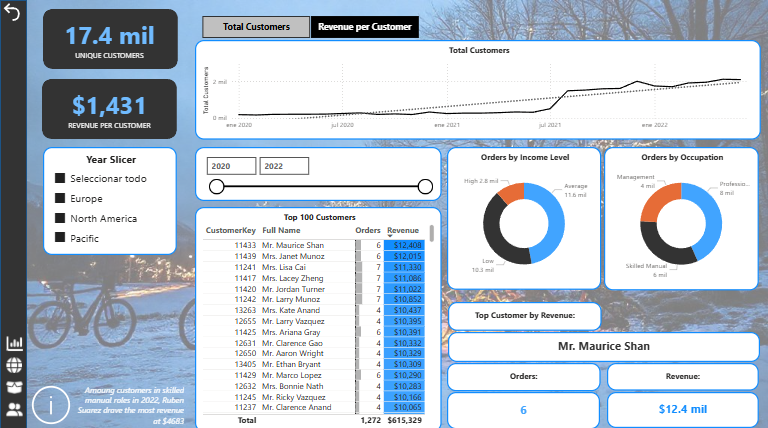

This screenshot's page, from the dashboard's own definition file:
{"tool":"powerbi","page":{"name":"Customer Detail","canvas":[1280,720],"ordinal":3},"visuals":[{"type":"card","fields":{"Values":["Measure Table.Total Customers"]},"box":[70,15.7,224.8,99.9],"z":0,"group":"g2"},{"type":"shape","box":[70,131.8,224.8,99.9],"z":0,"group":"g1"},{"type":"actionButton","box":[7.1,555.7,35.7,35.7],"z":0,"group":"g4"},{"type":"textbox","box":[745.7,605.7,255.7,47.1],"z":0},{"type":"lineChart","fields":{"Y":["Measure Table.Total Customers"],"Category":["Calendar Lookup.Año Jerarquía.Año","Calendar Lookup.Año Jerarquía.Inicio del mes","Calendar Lookup.Año Jerarquía.Inicio de la semana","Calendar Lookup.Año Jerarquía.Date"]},"box":[324.7,66.1,943.3,166],"z":500},{"type":"shape","box":[71.1,15.7,224.8,99.9],"z":1000,"group":"g1"},{"type":"card","fields":{"Values":["Measure Table.Average Revenue per Customer"]},"box":[70,131.8,224.8,99.9],"z":1000,"group":"g2"},{"type":"actionButton","box":[7.1,592.8,35.7,34.3],"z":1000,"group":"g4"},{"type":"textbox","box":[1011.4,605.7,252.9,45.7],"z":1000},{"type":"shape","box":[0,0,45,720],"z":2000},{"type":"group","id":"g1","title":"KPIs Backgrounds","box":[70,15.7,225.9,216],"z":2000,"group":"g3"},{"type":"actionButton","box":[7,629,35,35],"z":2000,"group":"g4"},{"type":"group","id":"g2","title":"KPIs Values","box":[70,15.7,224.8,216],"z":2500,"group":"g3"},{"type":"actionButton","box":[7,665.7,35,35],"z":3000,"group":"g4"},{"type":"group","id":"g3","title":"KPIs","box":[70,15.7,227.1,215.7],"z":4000},{"type":"donutChart","title":"Orders by Income Level","fields":{"Category":["Customer Lookup.Income Level"],"Y":["Measure Table.Total Orders"]},"box":[745,245,256.7,238.3],"z":5000},{"type":"donutChart","title":"Orders by Occupation","fields":{"Category":["Customer Lookup.Occupation"],"Y":["Measure Table.Total Orders"]},"box":[1006.2,245,257.5,238.8],"z":6000},{"type":"tableEx","title":"Top 100 Customers","fields":{"Values":["Customer Lookup.CustomerKey","Customer Lookup.Customer Full Name (CC)","Measure Table.Total Orders","Measure Table.Total Revenue"]},"box":[324.7,345.3,411.4,374.7],"z":7000},{"type":"textbox","box":[746.2,502.5,256.2,47.5],"z":8000},{"type":"card","fields":{"Values":["Customer Lookup.Full Name (Customer Detail)"]},"box":[746.2,552.5,520,50],"z":9000},{"type":"card","fields":{"Values":["Measure Table.Total Orders (Customer Detail)"]},"box":[745,653.3,255,61.7],"z":10000},{"type":"card","fields":{"Values":["Measure Table.Total Revenue (Customer Detail)"]},"box":[1011.7,653.3,253.3,60],"z":11000},{"type":"slicer","title":"Year Slicer","fields":{"Values":["Territory Lookup.Continent"]},"box":[71.7,245,223.3,180],"z":12000},{"type":"actionButton","box":[0,0,45.6,39.7],"z":13000},{"type":"slicer","fields":{"Values":["Calendar Lookup.Año Jerarquía.Año"]},"box":[324.7,245.4,411.4,89.6],"z":14000},{"type":"actionButton","box":[45.7,634.3,265.7,80],"z":15000},{"type":"group","id":"g4","title":"Navigation Buttons","box":[7,555.7,35.9,145],"z":16000},{"type":"slicer","fields":{"Values":["Customer Metric SElection.Customer Metric SElection"]},"box":[311.5,20.6,410,50],"z":17000}]}

Visuals, with their boxes on the page's 1280x720 design canvas (x1, y1, x2, y2). These are canvas units, not pixel positions in the 768x428 screenshot, which may show the page scaled, cropped or inside an application window:
card - Measure Table.Total Customers: 70,16,295,116
shape: 70,132,295,232
actionButton: 7,556,43,591
textbox: 746,606,1001,653
lineChart - Measure Table.Total Customers x Calendar Lookup.Año Jerarquía.Año: 325,66,1268,232
shape: 71,16,296,116
card - Measure Table.Average Revenue per Customer: 70,132,295,232
actionButton: 7,593,43,627
textbox: 1011,606,1264,651
shape: 0,0,45,720
"KPIs Backgrounds" group: 70,16,296,232
actionButton: 7,629,42,664
"KPIs Values" group: 70,16,295,232
actionButton: 7,666,42,701
"KPIs" group: 70,16,297,231
"Orders by Income Level" donutChart: 745,245,1002,483
"Orders by Occupation" donutChart: 1006,245,1264,484
"Top 100 Customers" tableEx: 325,345,736,720
textbox: 746,502,1002,550
card - Customer Lookup.Full Name (Customer Detail): 746,552,1266,602
card - Measure Table.Total Orders (Customer Detail): 745,653,1000,715
card - Measure Table.Total Revenue (Customer Detail): 1012,653,1265,713
"Year Slicer" slicer: 72,245,295,425
actionButton: 0,0,46,40
slicer - Calendar Lookup.Año Jerarquía.Año: 325,245,736,335
actionButton: 46,634,311,714
"Navigation Buttons" group: 7,556,43,701
slicer - Customer Metric SElection.Customer Metric SElection: 312,21,722,71
